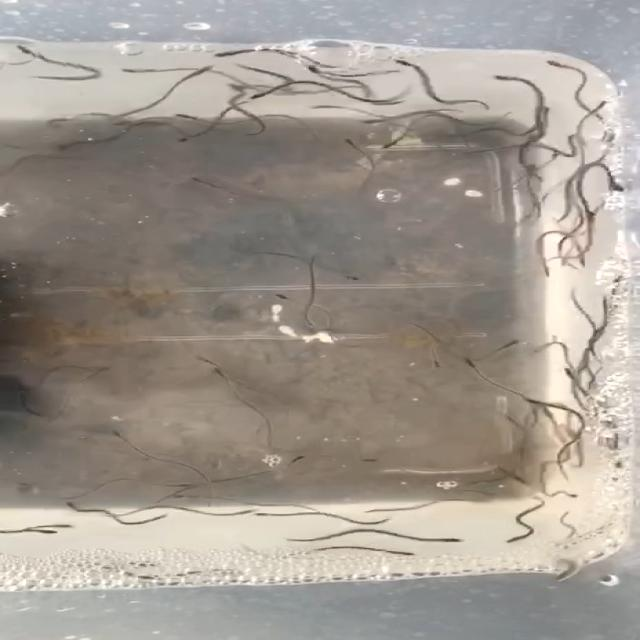inactive_glass_eel: (587, 177, 640, 200), (268, 282, 308, 304), (28, 522, 74, 540), (456, 353, 500, 371), (188, 62, 224, 84), (10, 44, 46, 64), (338, 269, 370, 291), (370, 58, 420, 72), (208, 359, 238, 382), (240, 505, 278, 521), (172, 110, 210, 126), (414, 353, 444, 373), (294, 312, 328, 328), (374, 133, 406, 150), (248, 84, 282, 100), (79, 362, 109, 380), (352, 115, 389, 129), (175, 175, 221, 186), (434, 532, 470, 546), (522, 158, 550, 176), (172, 134, 202, 150), (293, 65, 333, 77), (386, 546, 420, 560), (481, 72, 528, 82), (103, 428, 135, 442), (520, 394, 548, 410), (58, 499, 90, 512), (500, 531, 526, 547), (540, 60, 578, 70), (215, 46, 244, 59), (56, 138, 82, 152), (547, 488, 581, 498), (332, 136, 360, 148), (553, 366, 574, 380)
